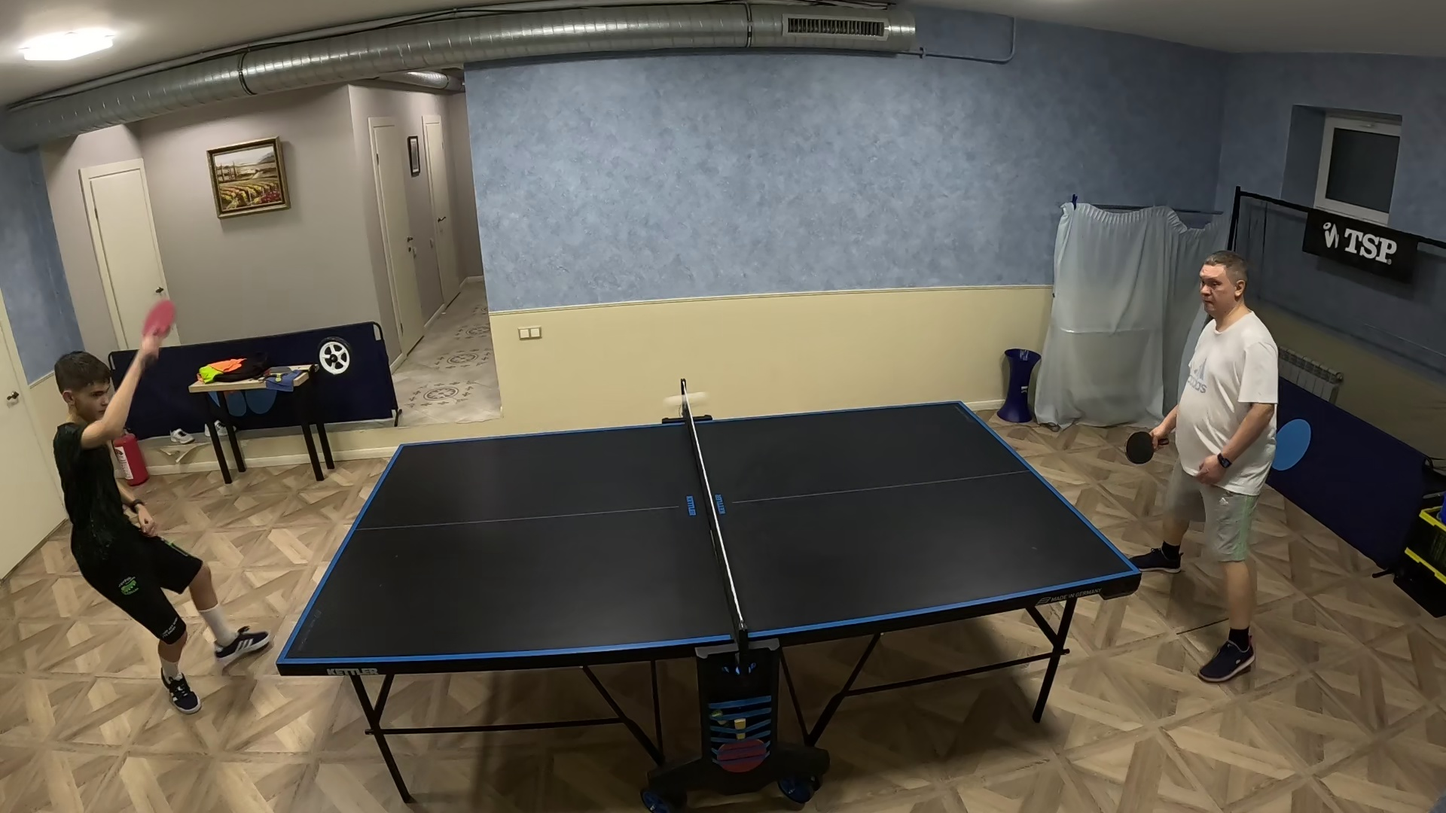Ball: (664, 391, 706, 408)
